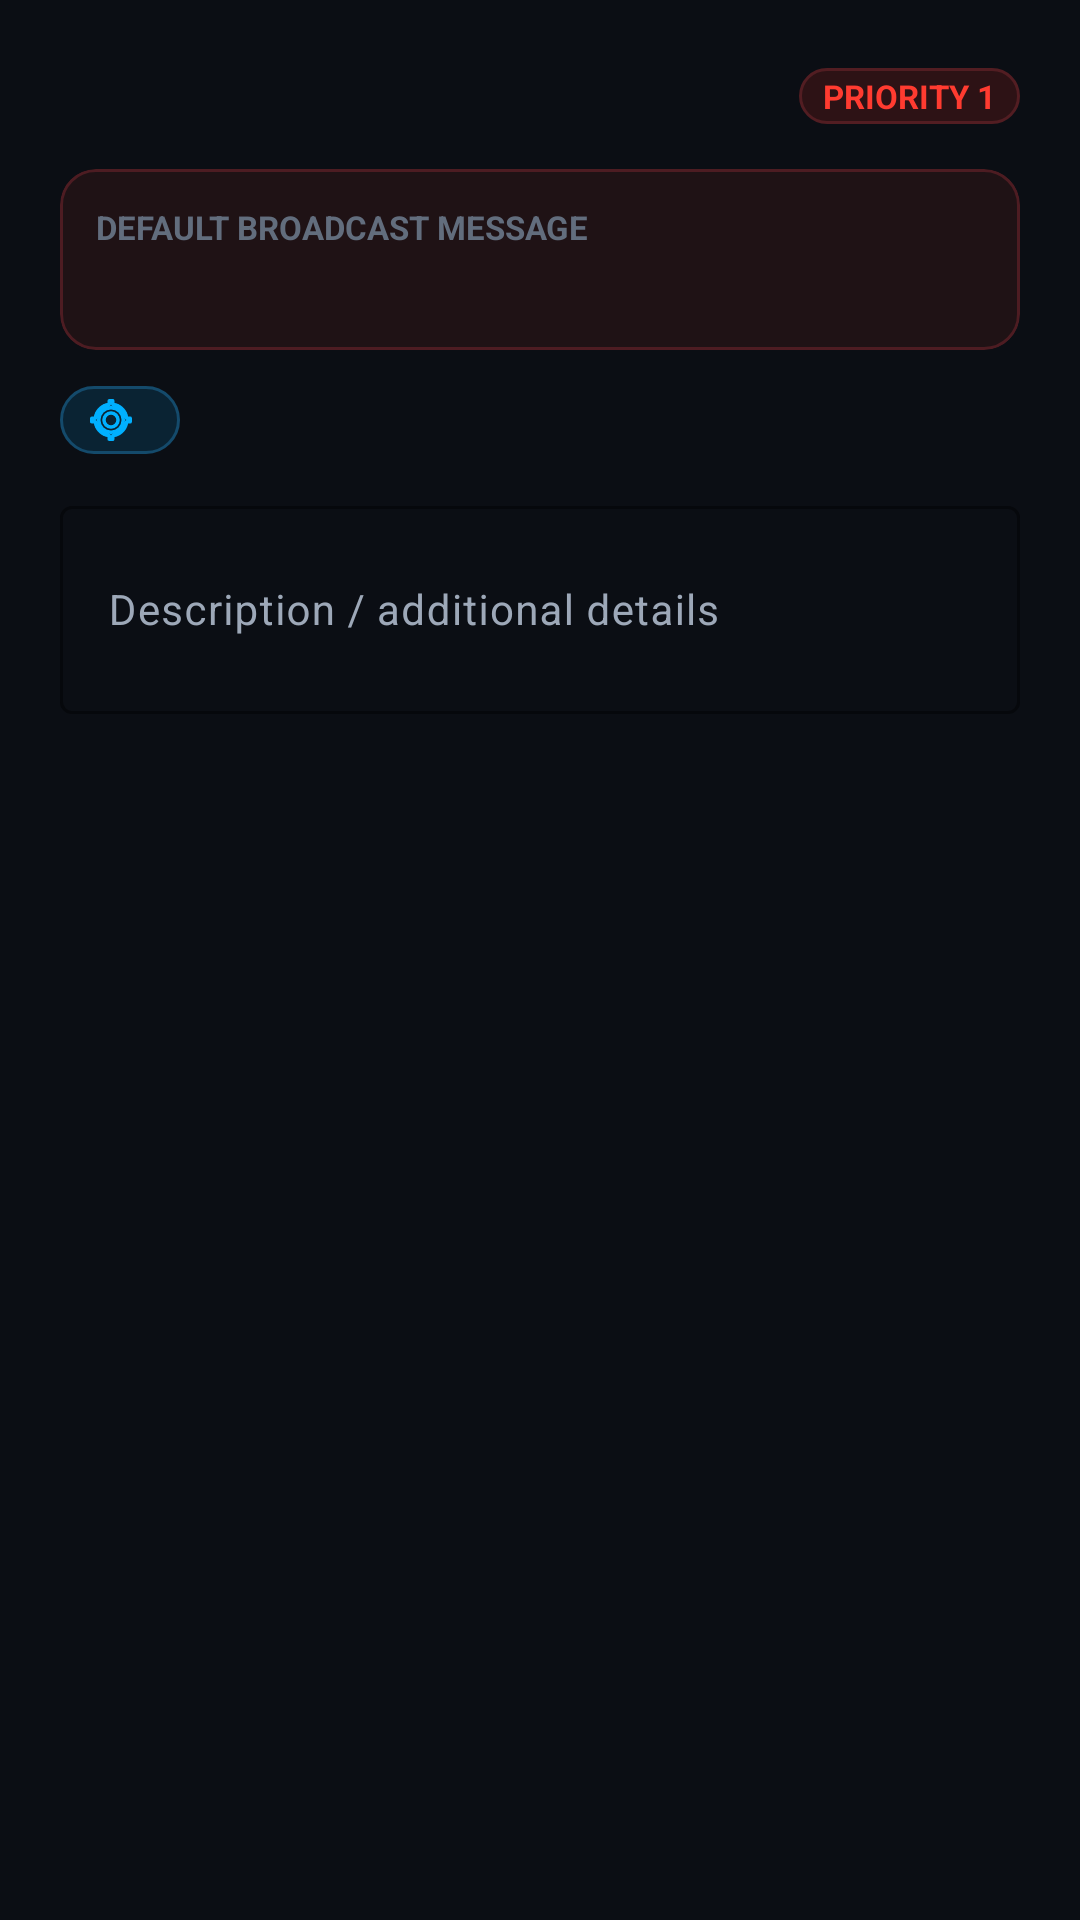

Icons on this 1080w x 1920h Android screen, each with the point to tap as point (x, y):
GPS Sensor: point (111, 420)
